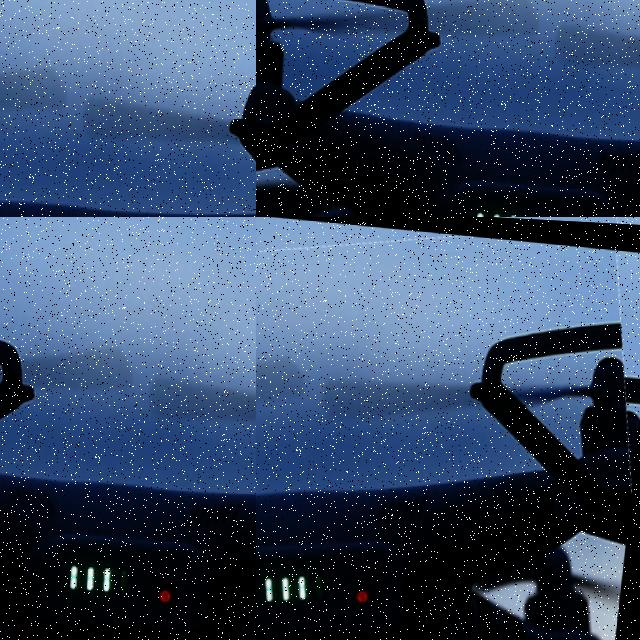drone: (256, 217, 640, 640)
